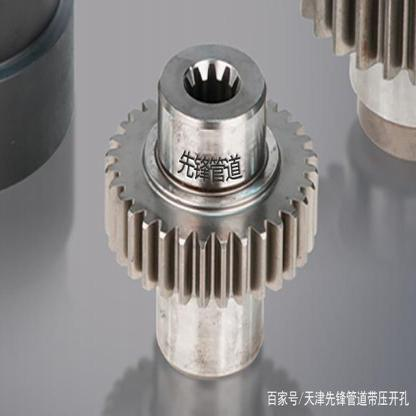FOD: (97, 92, 322, 308)
